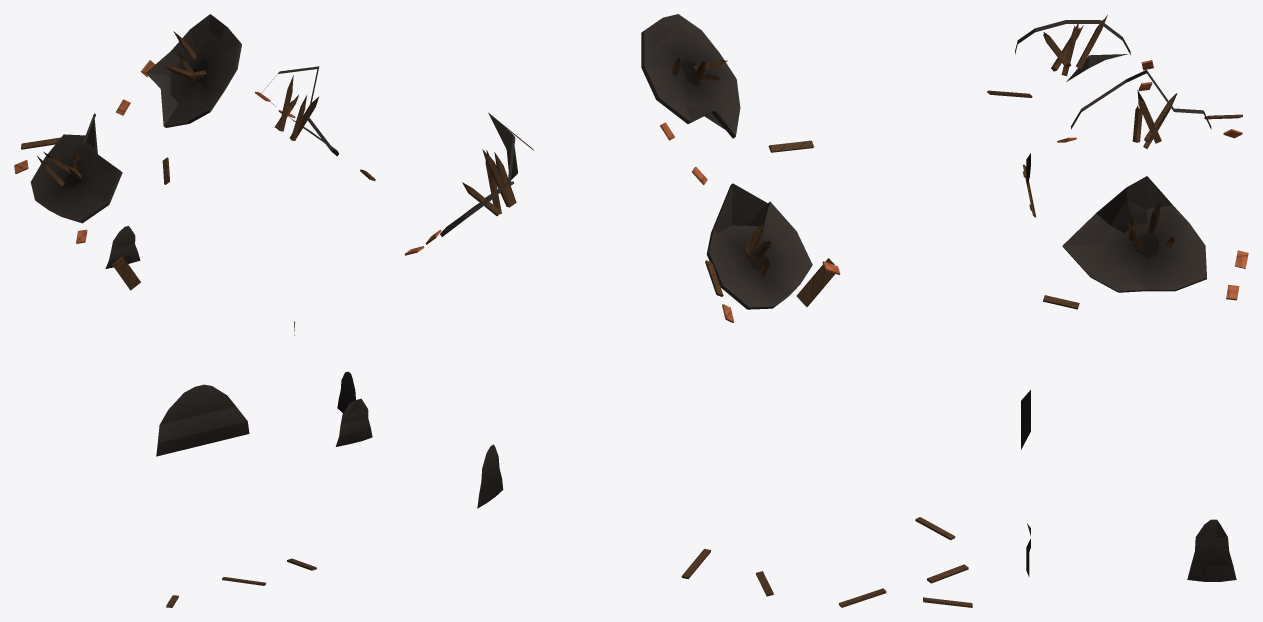
The model's file is category.bridge.l.ruin.glb.
3 views of the same model, side by side, from view 1: azimuth 30°, elevation 25°; view 2: azimuth 150°, elevation 25°; view 3: azimuth 270°, elevation 25° (orthographic). The views are drawn at different scales.
Parts seen in each view (by area): view 1: ruin; view 2: ruin; view 3: ruin.
Boxes of the visible parts, left/top/right/bottom form: ruin: left=14, top=14, right=375, bottom=607; ruin: left=404, top=14, right=886, bottom=607; ruin: left=915, top=14, right=1248, bottom=607.
Bounding box in the file's own units: 7.67 × 12.65 × 6.66.
3 materials, 2 textured.
